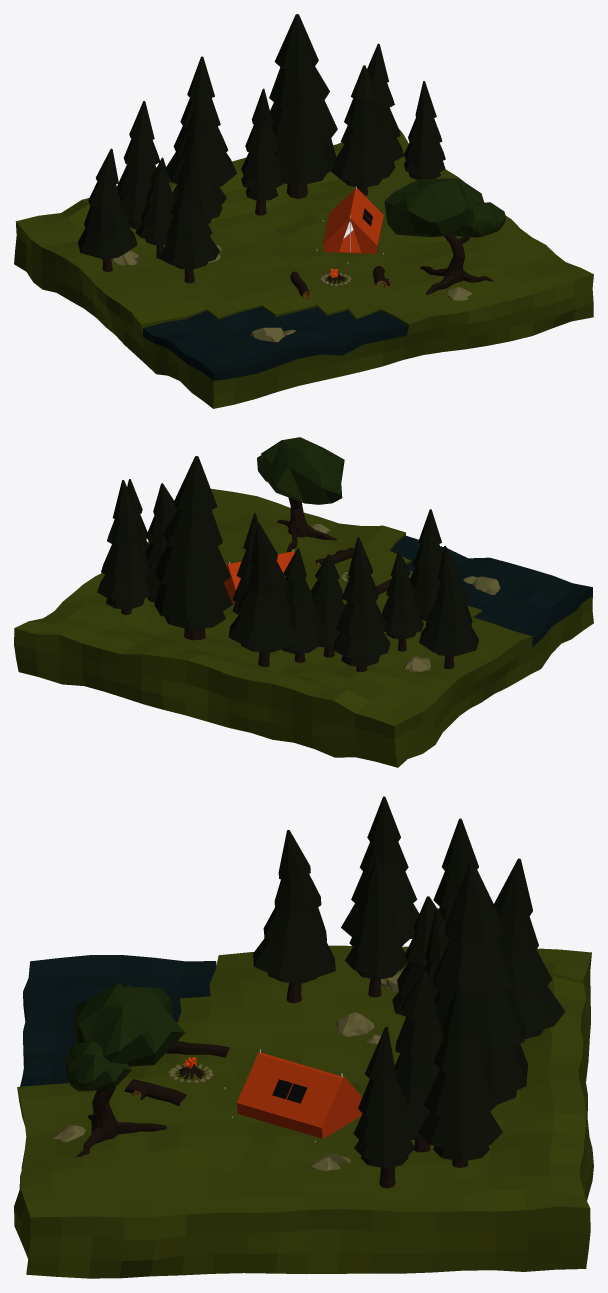
File: camp fire scene.fbx
3 renders of one model, top to bottom at view 1: azimuth 30°, elevation 25°; view 2: azimuth 150°, elevation 25°; view 3: azimuth 270°, elevation 25°, orthographic. The views are drawn at different scales.
Visible parts, largest first — view 1: Box001, water, pine leaves004, Sphere001, pine leaves007, pine leaves008, pine leaves005, pine leaves, pine leaves003, pine leaves009, Box020, pine leaves010 (+6 smaller); view 2: Box001, pine leaves004, water, pine leaves009, Sphere001, pine leaves, pine leaves011, pine leaves008, pine leaves002, pine leaves006, pine leaves005, pine leaves001 (+5 smaller); view 3: Box001, pine leaves004, water, pine leaves011, pine leaves005, Box020, Sphere001, pine leaves009, pine leaves010, pine leaves007, pine leaves006, pine leaves008 (+8 smaller).
Boxes of the visible parts, left/top/right/bottom form: Box001: left=14, top=128, right=593, bottom=408; water: left=142, top=306, right=407, bottom=380; pine leaves004: left=269, top=14, right=337, bottom=185; Sphere001: left=384, top=178, right=484, bottom=236; pine leaves007: left=330, top=65, right=395, bottom=187; pine leaves008: left=77, top=148, right=137, bottom=259; pine leaves005: left=159, top=161, right=219, bottom=269; pine leaves: left=117, top=101, right=159, bottom=229; pine leaves003: left=241, top=88, right=282, bottom=200; pine leaves009: left=166, top=56, right=236, bottom=186; Box020: left=323, top=188, right=383, bottom=253; pine leaves010: left=404, top=81, right=445, bottom=179; Box001: left=14, top=488, right=593, bottom=767; pine leaves004: left=154, top=456, right=232, bottom=629; water: left=390, top=535, right=592, bottom=647; pine leaves009: left=228, top=523, right=298, bottom=652; Sphere001: left=261, top=437, right=344, bottom=504; pine leaves: left=332, top=537, right=390, bottom=666; pine leaves011: left=97, top=480, right=149, bottom=609; pine leaves008: left=419, top=545, right=478, bottom=656; pine leaves002: left=282, top=548, right=322, bottom=653; pine leaves006: left=382, top=551, right=423, bottom=639; pine leaves005: left=410, top=509, right=442, bottom=621; pine leaves001: left=311, top=554, right=345, bottom=647; Box001: left=14, top=945, right=593, bottom=1278; pine leaves004: left=433, top=862, right=528, bottom=1104; water: left=20, top=955, right=216, bottom=1086; pine leaves011: left=418, top=981, right=502, bottom=1161; pine leaves005: left=253, top=830, right=335, bottom=983; Box020: left=237, top=1052, right=362, bottom=1138; Sphere001: left=73, top=983, right=185, bottom=1066; pine leaves009: left=494, top=858, right=565, bottom=1038; pine leaves010: left=353, top=1026, right=415, bottom=1168; pine leaves007: left=394, top=971, right=444, bottom=1140; pine leaves006: left=345, top=857, right=407, bottom=979; pine leaves008: left=341, top=796, right=419, bottom=942.
Size of the model in its own units: 197 by 109 by 179.
